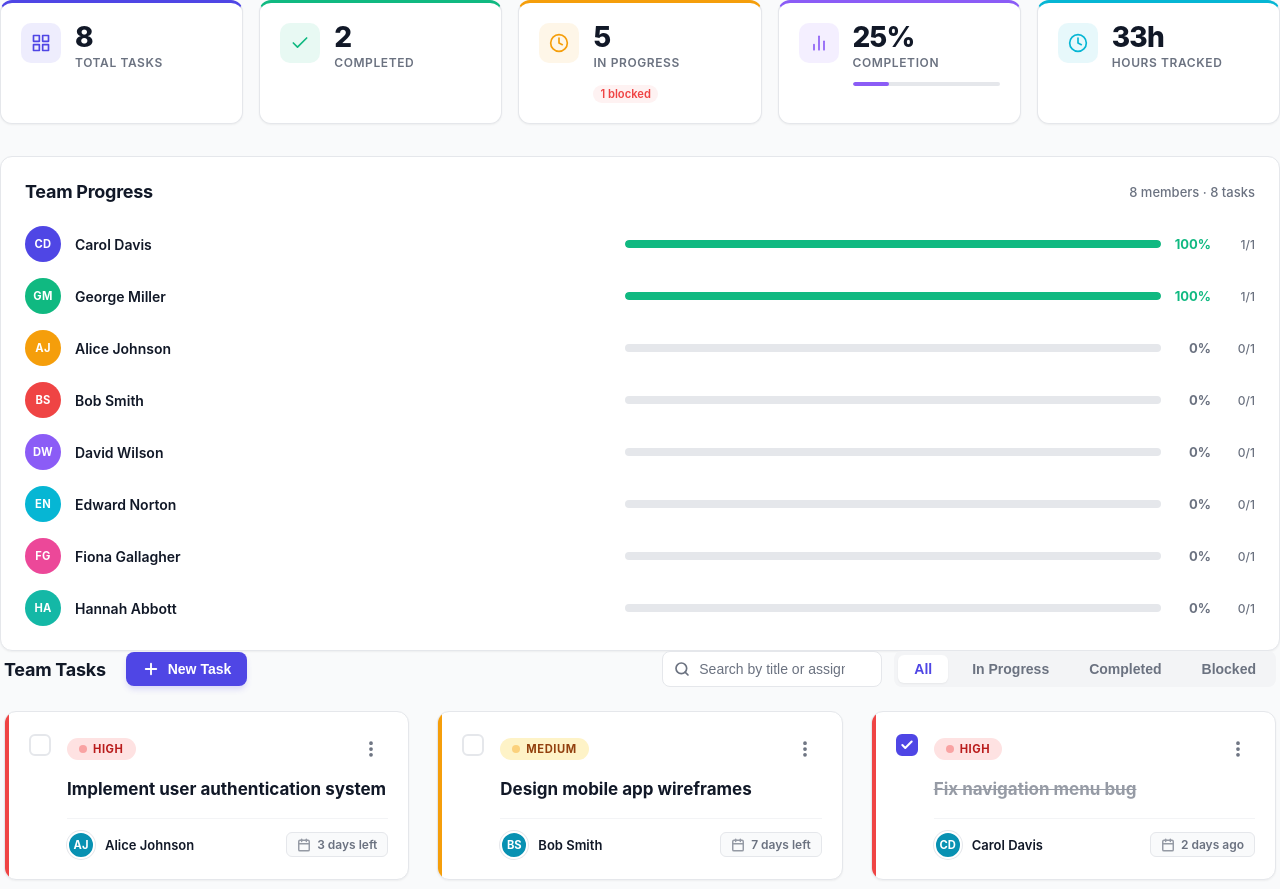
TaskListView – task creation › new task does not appear under "Completed" filter
Step 1. Click the button "New Task" → [186, 669], box [126, 652, 247, 686]
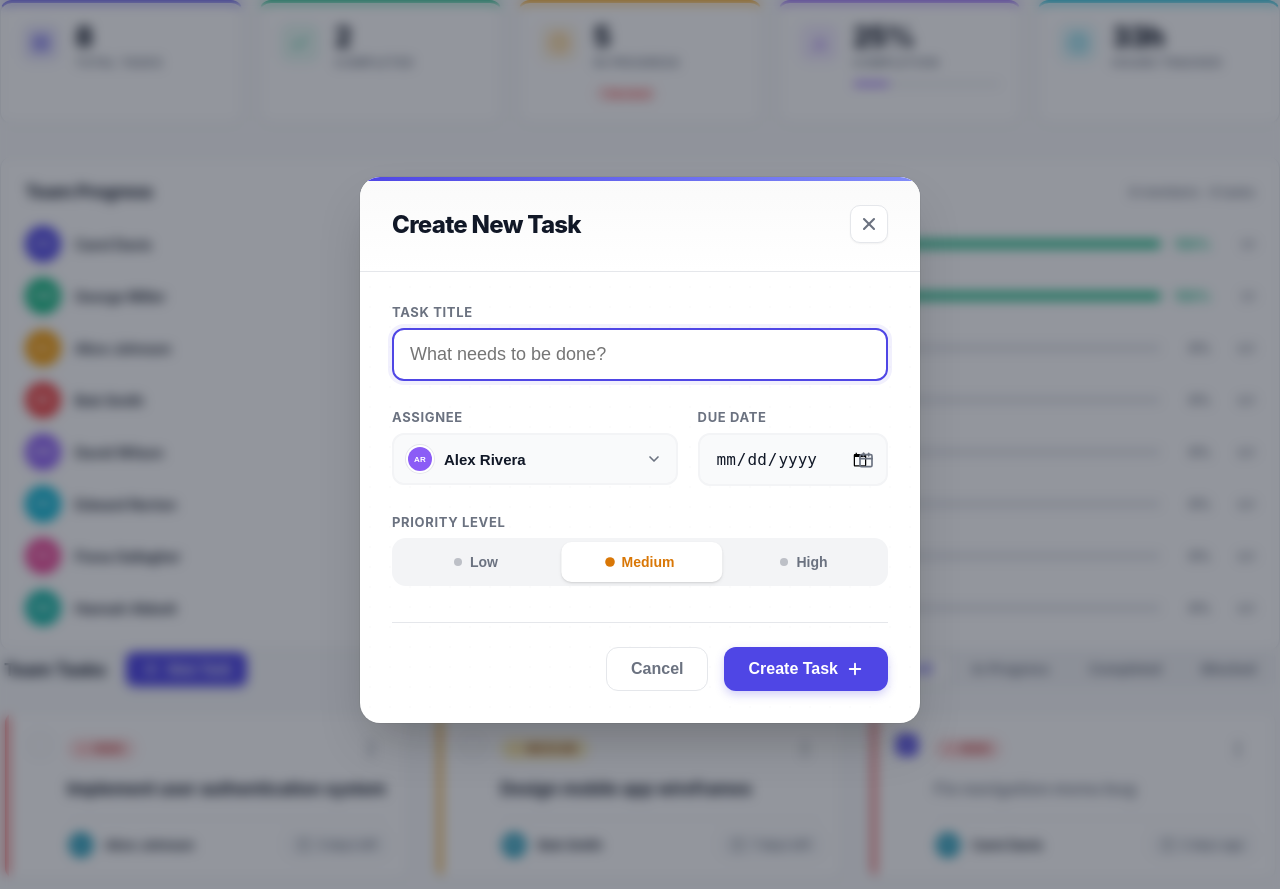
Step 2. Type "Temp task" into the field with placeholder "What needs to be done?" → [640, 354], box [392, 328, 888, 381]
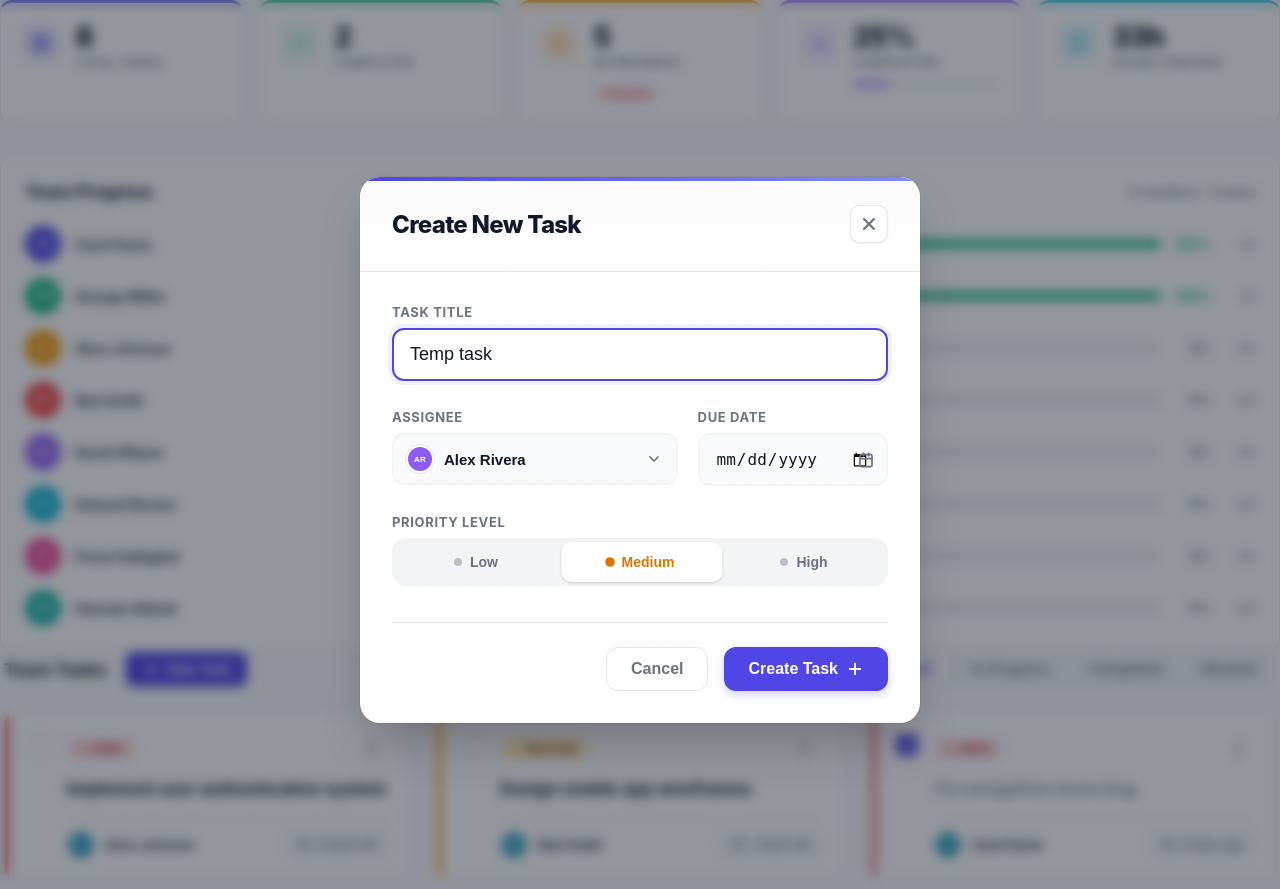
Step 3. Click the button "Create Task" → [806, 669], box [724, 647, 888, 691]
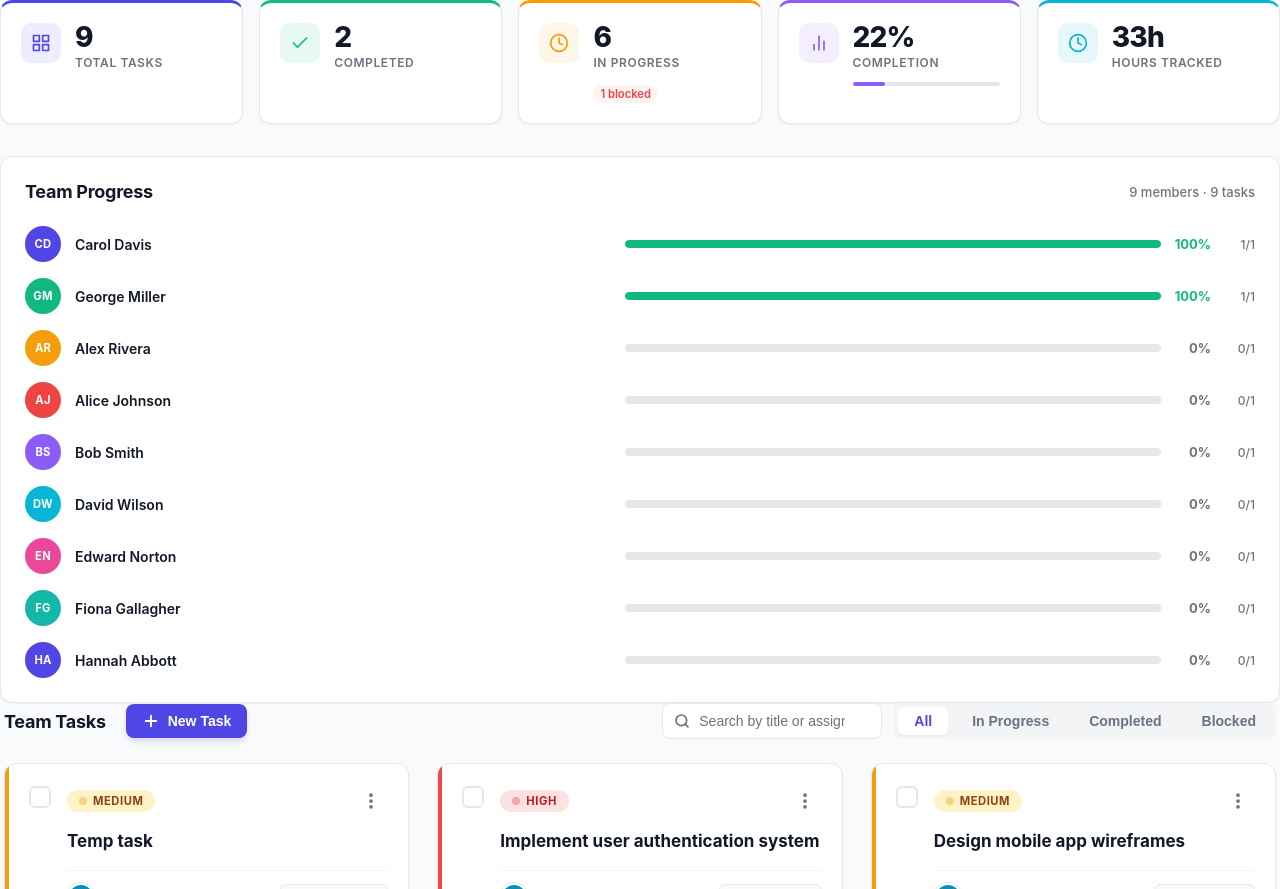
Step 4. Click the button "Completed" → [1125, 721], box [1073, 707, 1178, 735]
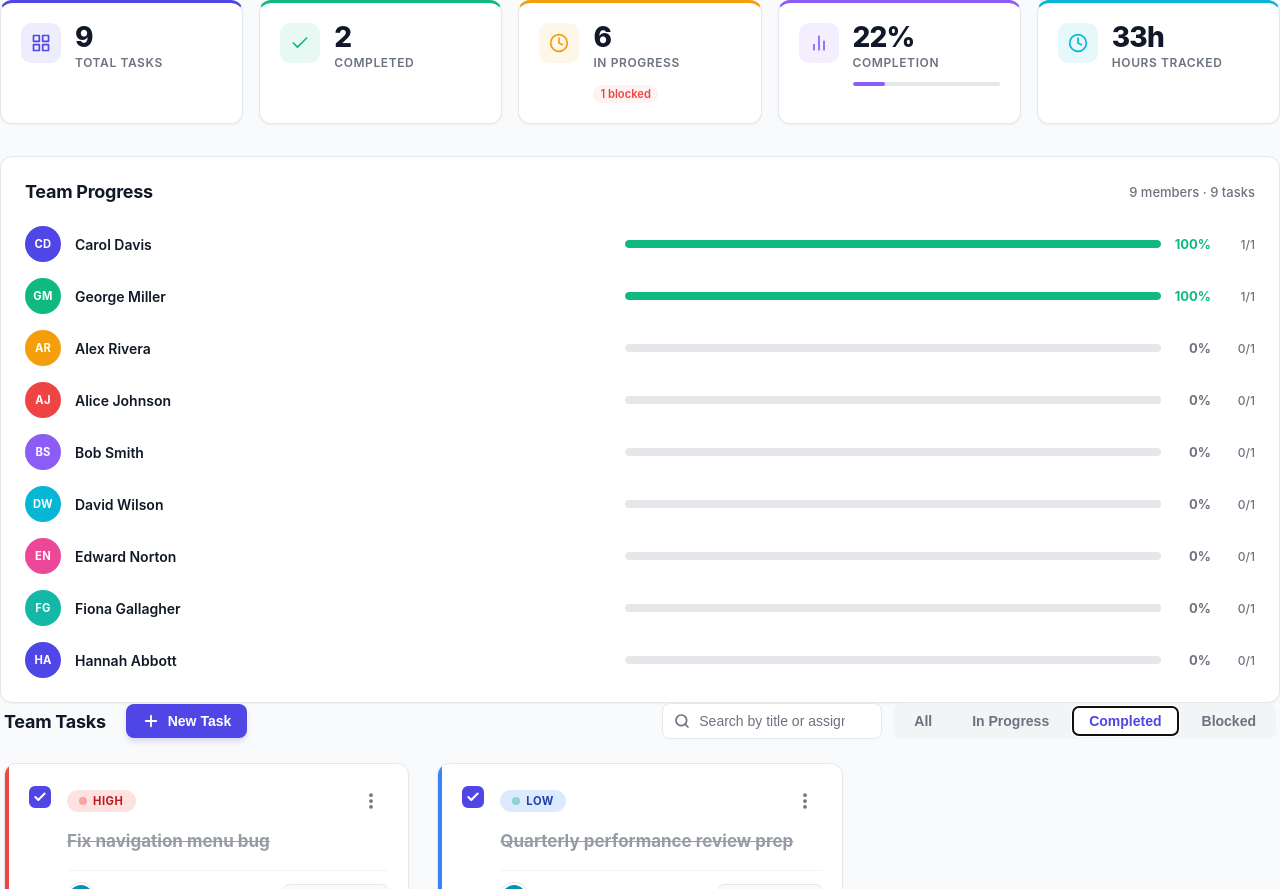
Expected: the heading "Temp task" is gone
